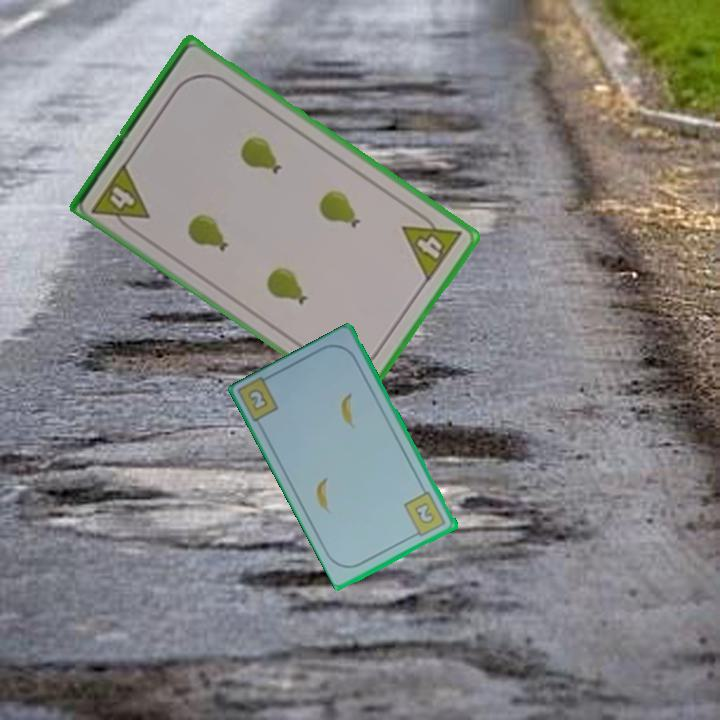2b: (400, 488, 449, 540), (244, 385, 271, 414)
4p: (398, 205, 465, 285), (88, 159, 153, 237)
